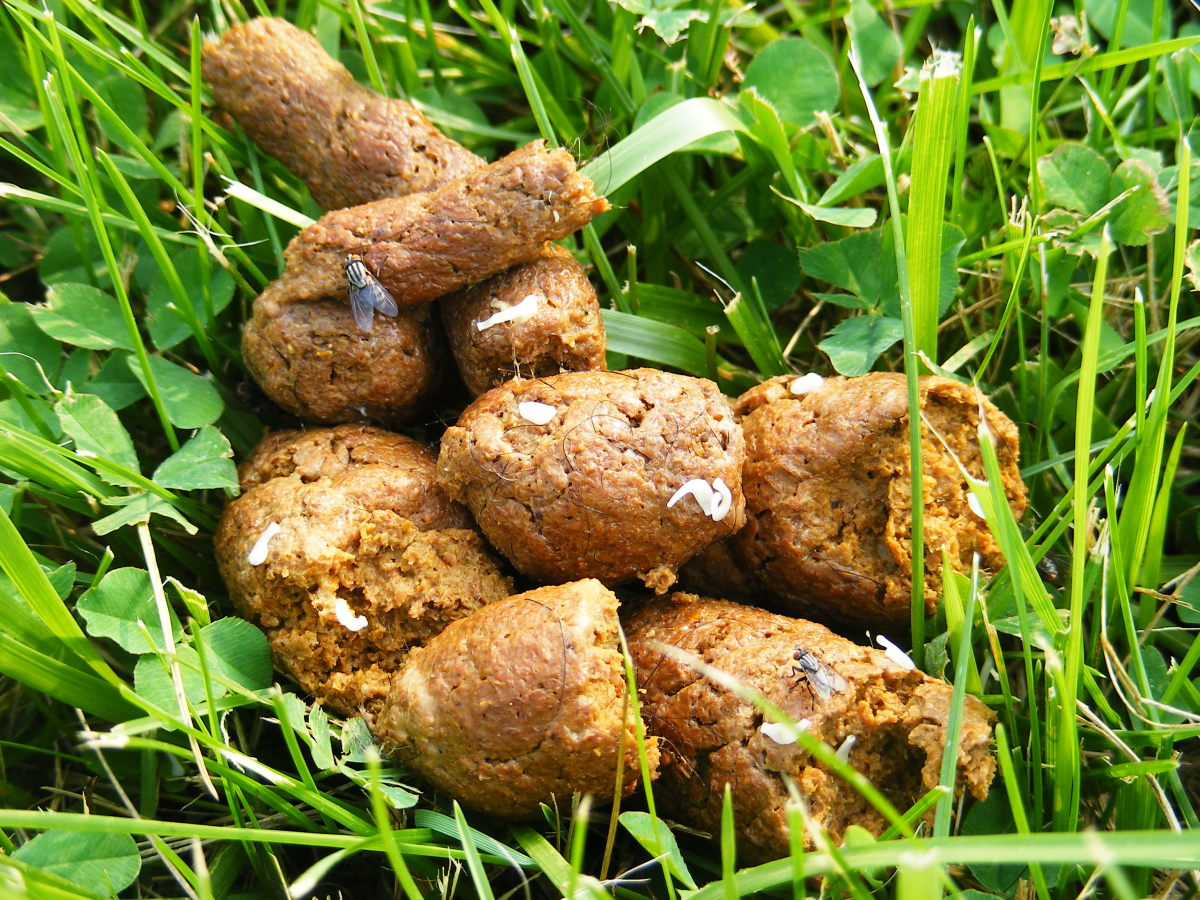Dog: (198, 17, 976, 799)
